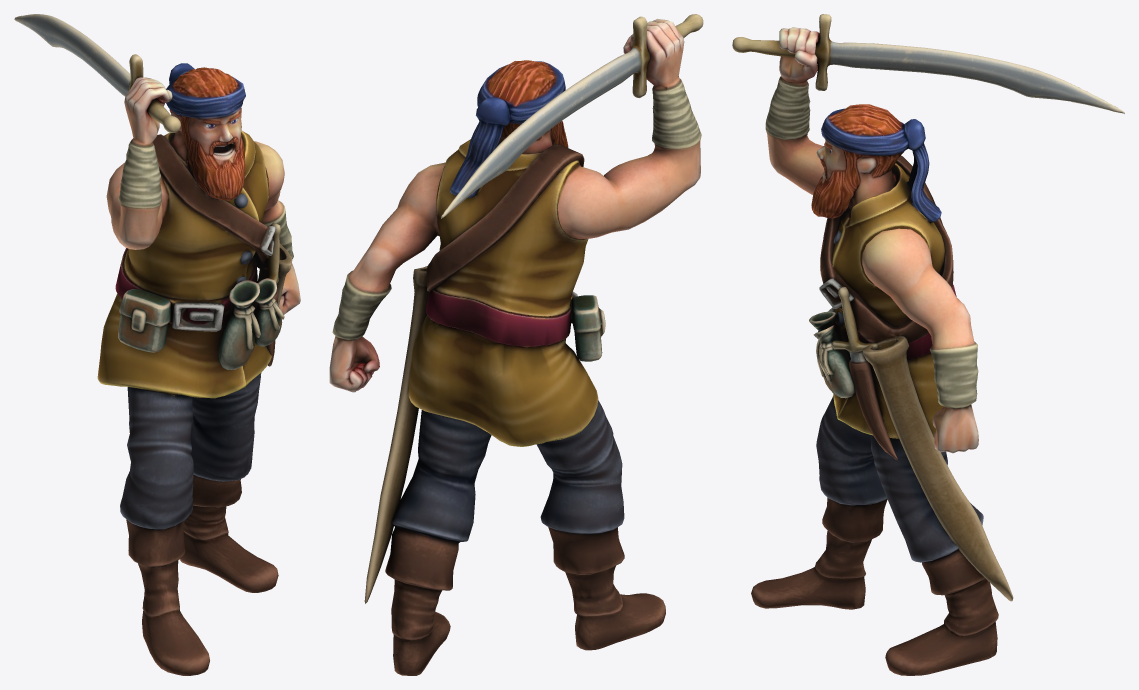
Rendered from MZ4250 - Bandit Captain 02.glb.
3 renders of one model, left to right at view 1: azimuth 30°, elevation 25°; view 2: azimuth 150°, elevation 25°; view 3: azimuth 270°, elevation 25°, orthographic. The views are drawn at different scales.
Visible parts, largest first — view 1: body_high.002, thing_high.002, blade_high.002, puch_high.002, bag1_low.001, bag2_high.002, dag_high.002; view 2: body_high.002, thing_high.002, blade_high.002, puch_high.002; view 3: body_high.002, thing_high.002, blade_high.002, dag_high.002, bag2_high.002, bag1_low.001.
Part boxes in pixels (bbox=[...]): body_high.002: bbox=[97, 63, 300, 675]; thing_high.002: bbox=[153, 134, 292, 374]; blade_high.002: bbox=[14, 14, 180, 132]; puch_high.002: bbox=[118, 289, 170, 352]; bag1_low.001: bbox=[218, 280, 260, 369]; bag2_high.002: bbox=[254, 278, 284, 346]; dag_high.002: bbox=[266, 222, 280, 366]; body_high.002: bbox=[329, 18, 701, 675]; thing_high.002: bbox=[364, 144, 584, 603]; blade_high.002: bbox=[441, 14, 703, 218]; puch_high.002: bbox=[572, 295, 605, 361]; body_high.002: bbox=[751, 27, 998, 675]; thing_high.002: bbox=[819, 155, 1013, 601]; blade_high.002: bbox=[732, 14, 1124, 113]; dag_high.002: bbox=[831, 286, 897, 460]; bag2_high.002: bbox=[813, 325, 854, 398]; bag1_low.001: bbox=[809, 311, 849, 397].
Size of the model in its own units: 2.69 by 5.93 by 3.65.
1 material, 1 textured.
